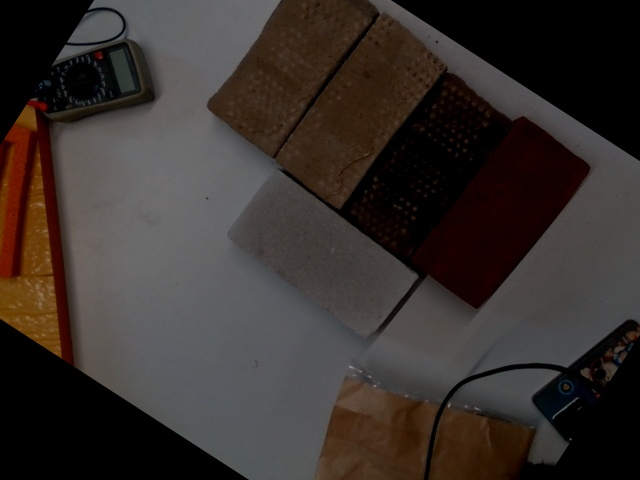brick: (411, 118, 589, 310), (225, 169, 415, 343), (275, 17, 446, 206), (341, 74, 511, 262), (204, 0, 378, 156)
